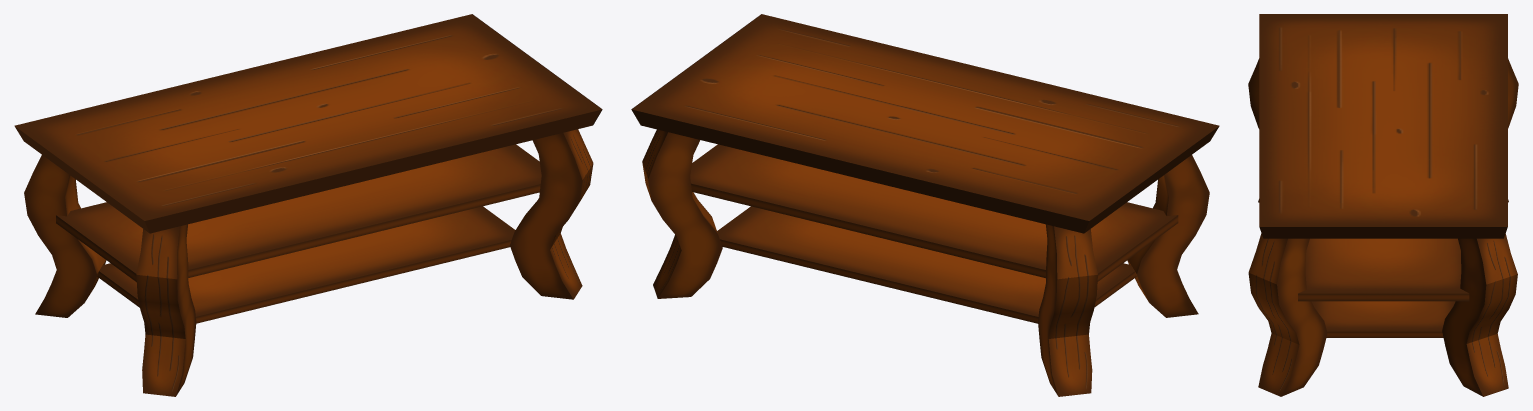
The model's file is Tafel.fbx.
3 renders of one model, left to right at view 1: azimuth 30°, elevation 25°; view 2: azimuth 150°, elevation 25°; view 3: azimuth 270°, elevation 25°, orthographic. The views are drawn at different scales.
Parts seen in each view (by area): view 1: pCube19; view 2: pCube19; view 3: pCube19.
Part boxes in pixels (<box>): pCube19: <box>14,14,602,396</box>; pCube19: <box>631,14,1219,396</box>; pCube19: <box>1248,14,1518,396</box>.
Bounding box in the file's own units: 9.71 × 3.7 × 5.21.
1 material, 1 textured.
